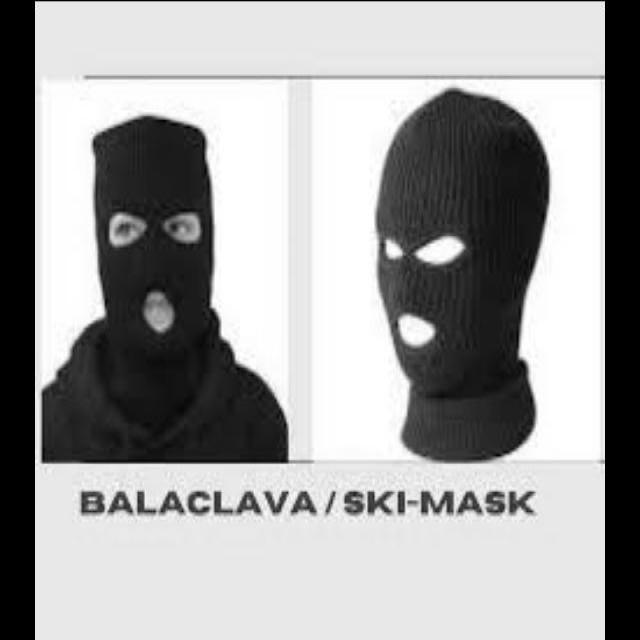6_pasamontana: (88, 114, 225, 428)
